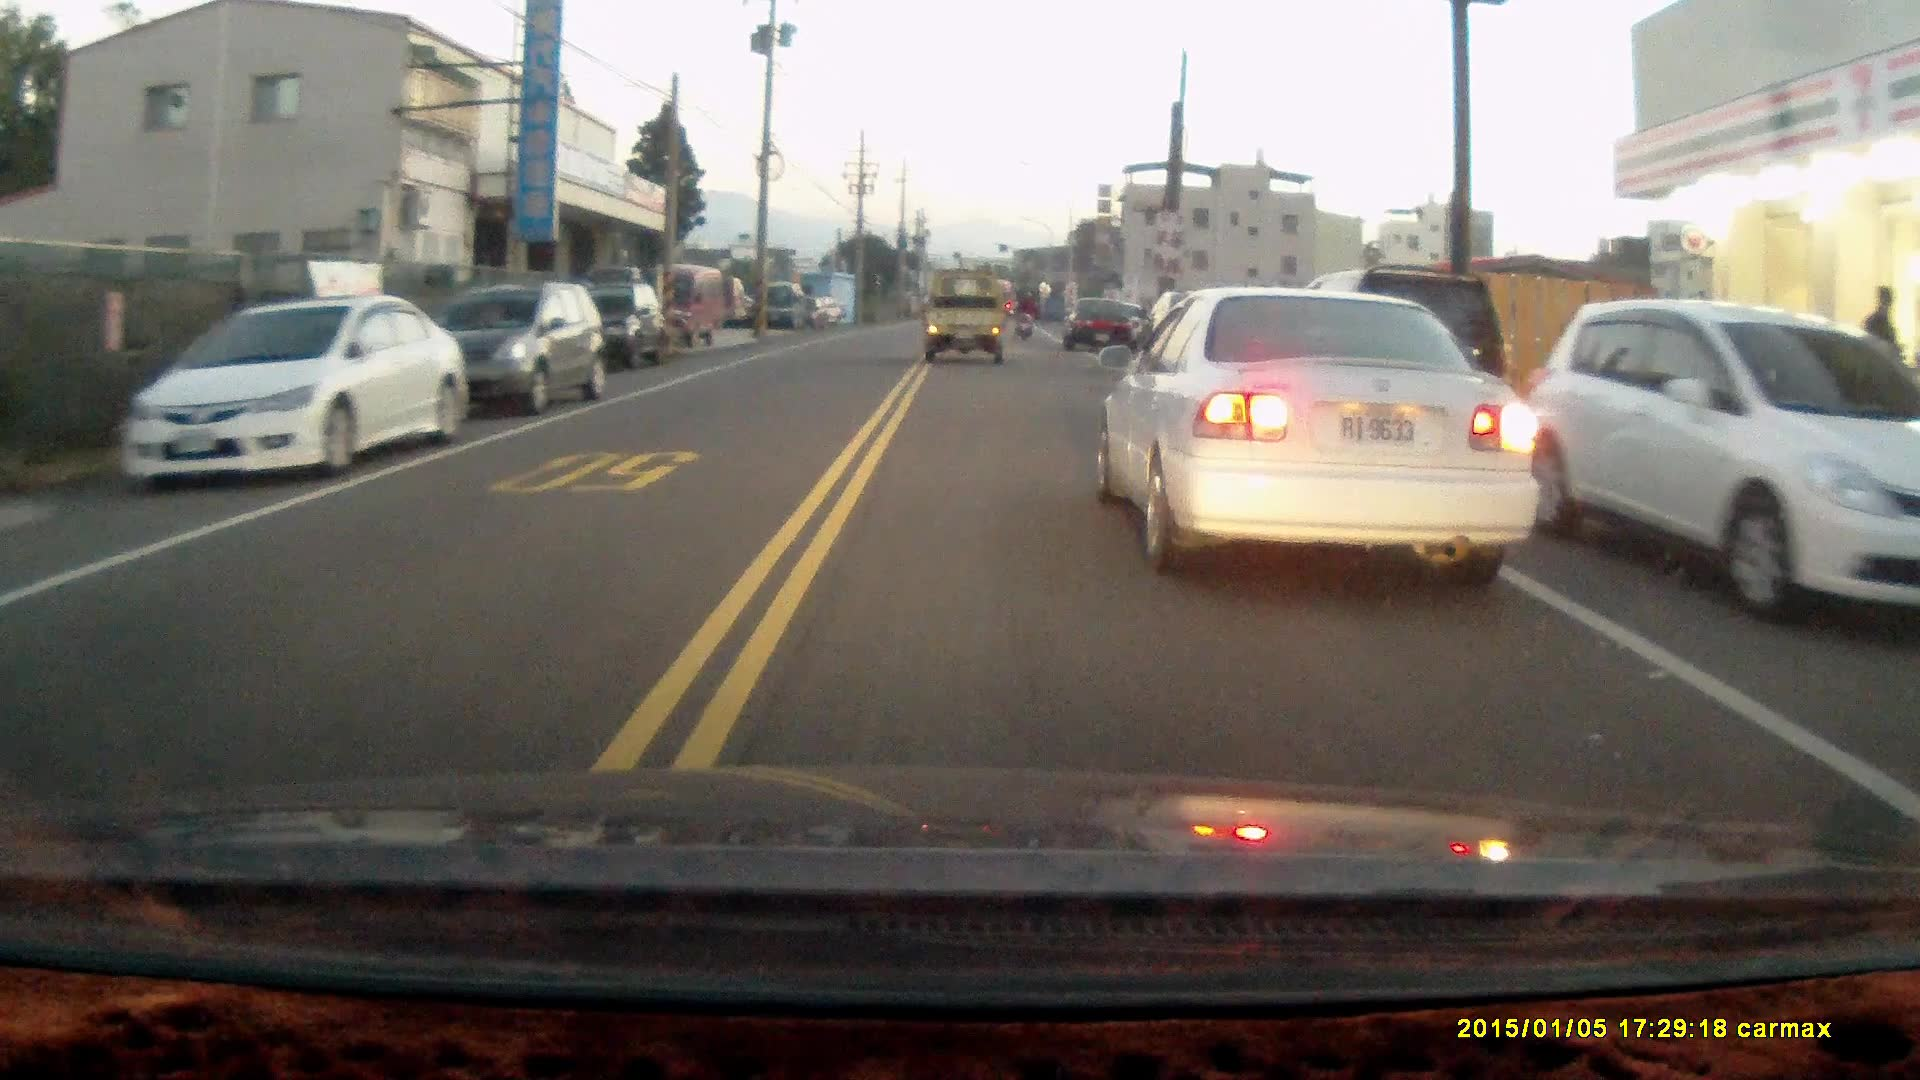pedestrian: (1861, 282, 1900, 388)
rider: (1012, 289, 1039, 337)
vehicle: (1529, 299, 1920, 634), (1097, 284, 1539, 578), (117, 292, 474, 484), (1298, 271, 1512, 483), (400, 278, 605, 413), (924, 269, 1012, 367), (638, 262, 740, 345), (576, 284, 670, 370), (1065, 295, 1144, 356)
